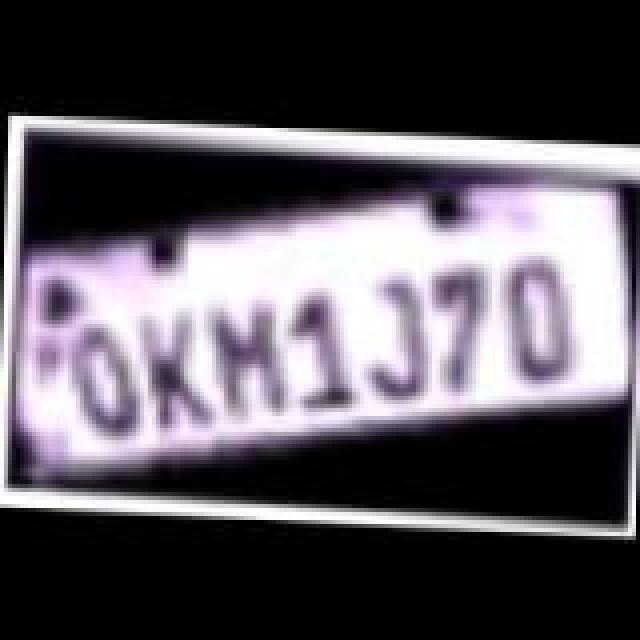1: (260, 282, 372, 414)
7: (406, 264, 522, 400)
D: (480, 246, 592, 382)
J: (342, 272, 450, 404)
K: (118, 308, 230, 436)
M: (190, 292, 302, 420)
O: (52, 320, 160, 444)
